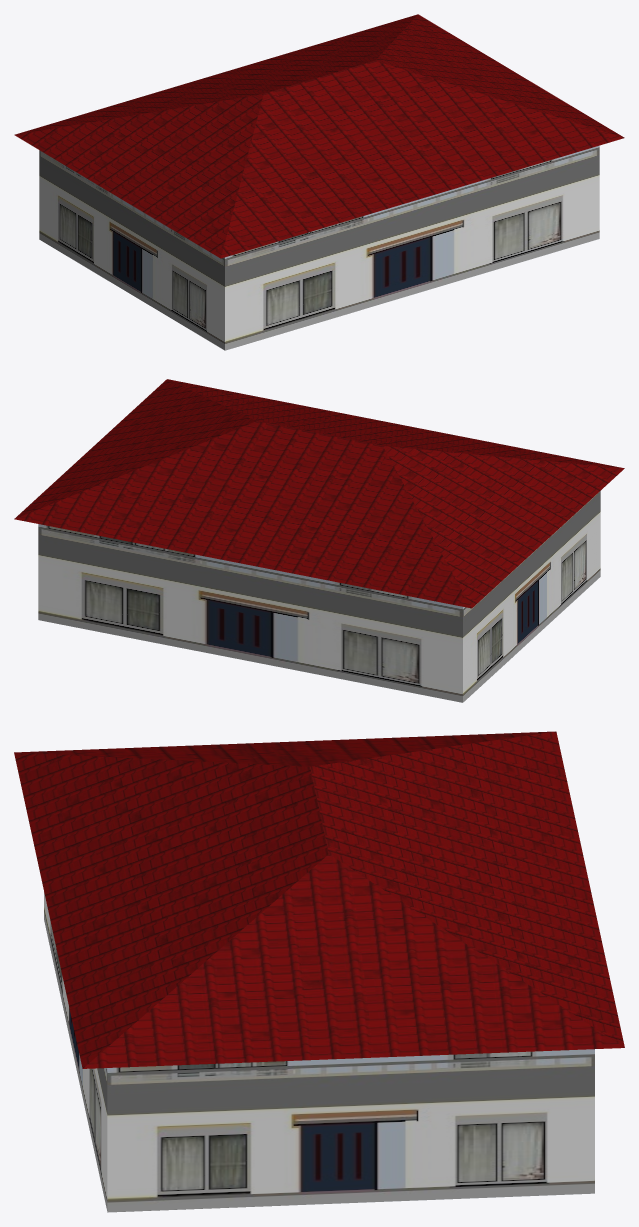
3 views of the same model, one above another, from view 1: azimuth 30°, elevation 25°; view 2: azimuth 150°, elevation 25°; view 3: azimuth 270°, elevation 25° (orthographic). The views are drawn at different scales.
Parts seen in each view (by area): view 1: CityEngineMaterial_17_m, CityEngineMaterial_7_m; view 2: CityEngineMaterial_17_m, CityEngineMaterial_7_m; view 3: CityEngineMaterial_17_m, CityEngineMaterial_7_m.
Part boxes in pixels (bbox=[...]): CityEngineMaterial_17_m: bbox=[14, 14, 624, 258]; CityEngineMaterial_7_m: bbox=[39, 145, 599, 350]; CityEngineMaterial_17_m: bbox=[14, 379, 624, 608]; CityEngineMaterial_7_m: bbox=[38, 491, 600, 702]; CityEngineMaterial_17_m: bbox=[14, 731, 624, 1068]; CityEngineMaterial_7_m: bbox=[44, 892, 594, 1212].
Size of the model in its own units: 27.27 by 9.27 by 20.86.
